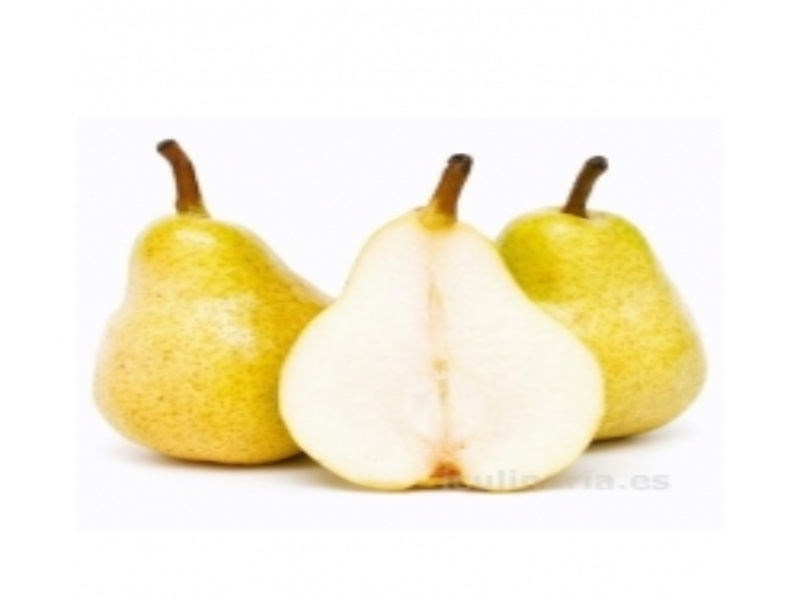Pera: (268, 155, 607, 493), (82, 134, 367, 480), (477, 151, 709, 454)
